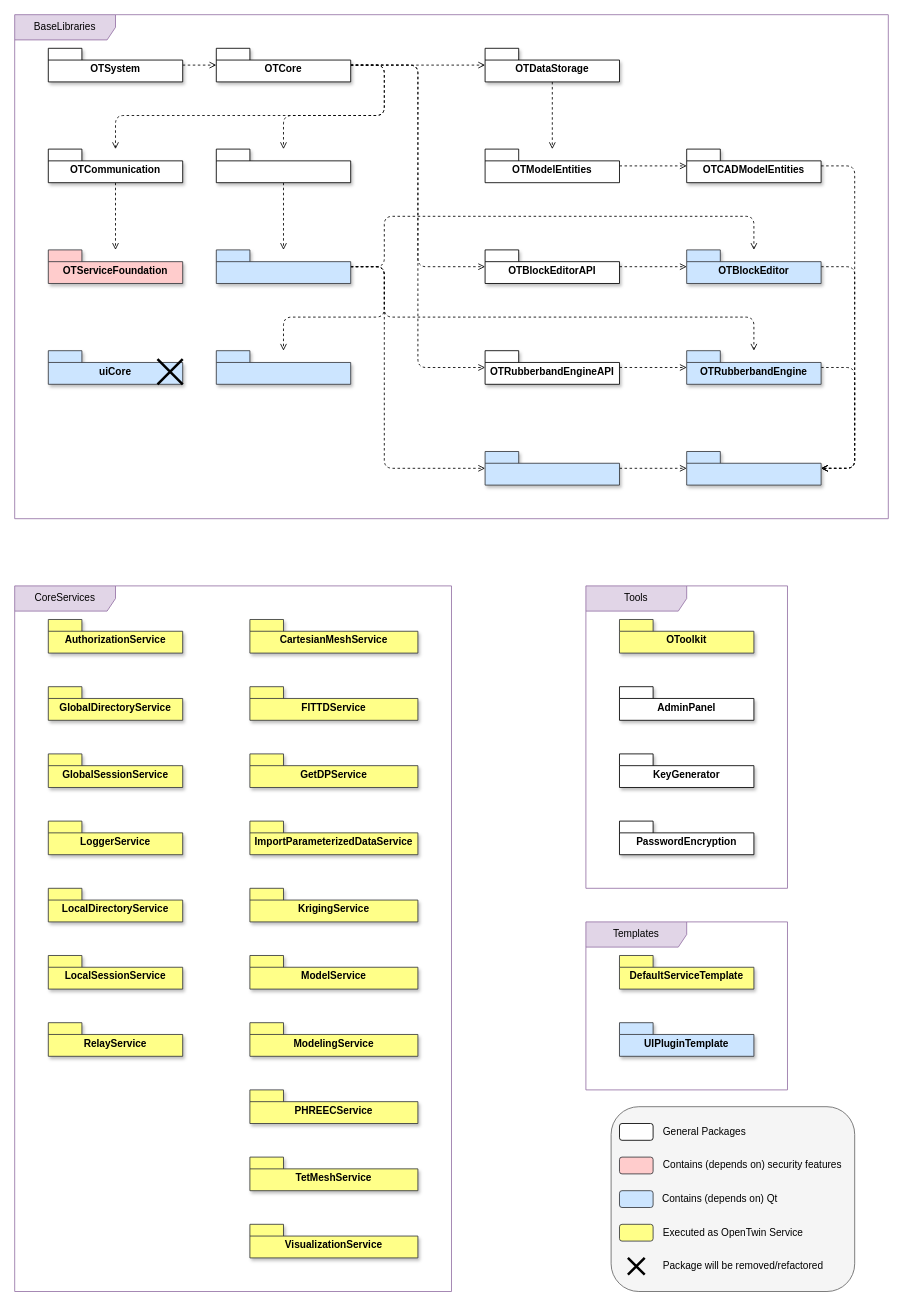
This 903x1306 diagram has some shape labels left out. Each missing label, with the centre of its shape:
OTGui: the point at 284,167
OTQwt: the point at 553,469
OTUiPluginAPI: the point at 284,368
OTViewer: the point at 754,469
OTWidgets: the point at 284,267
